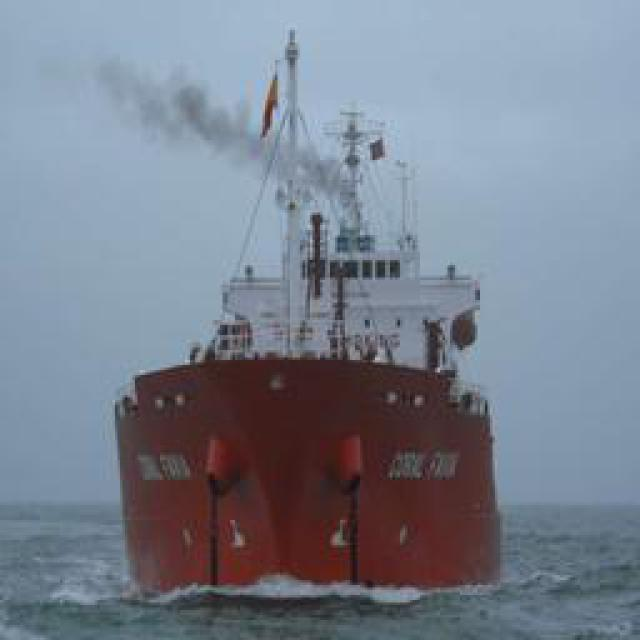Ship: (119, 6, 504, 594)
